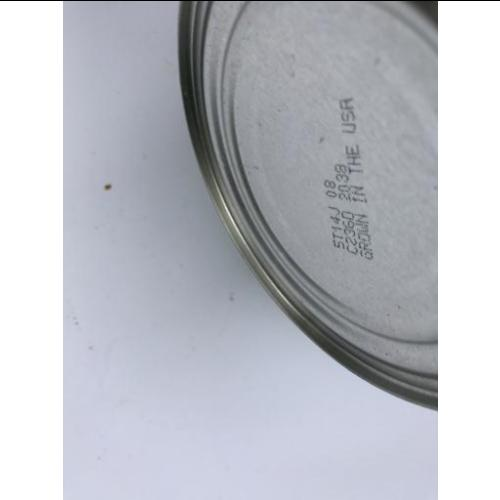metal: (180, 2, 438, 413)
